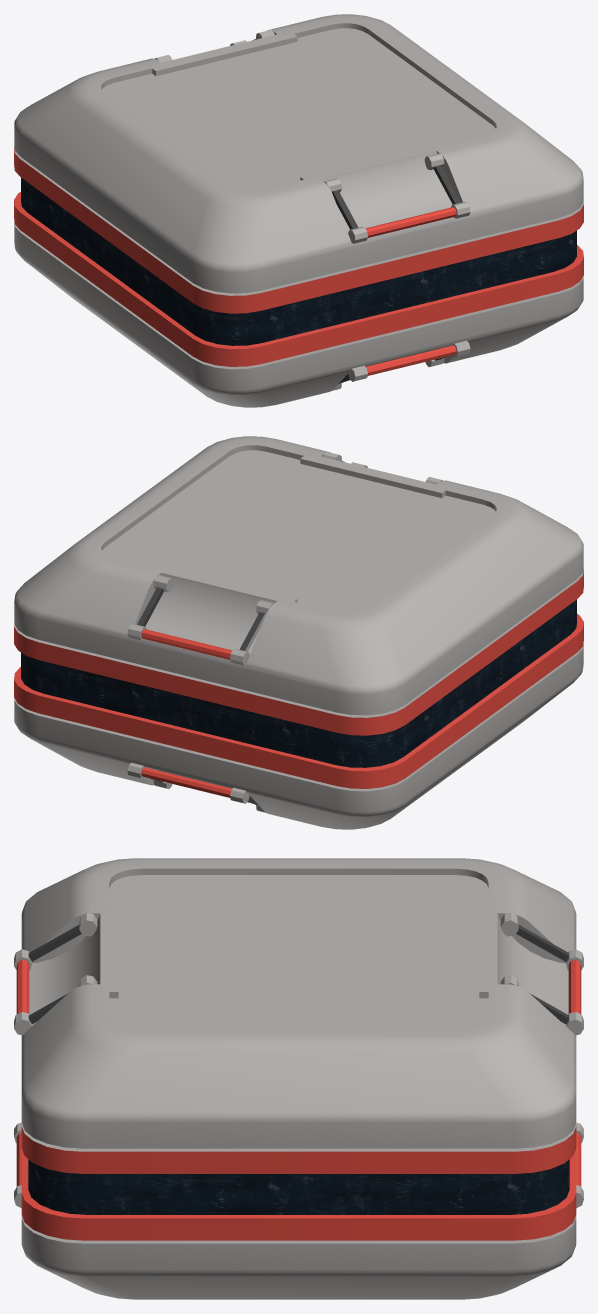
Rendered from ItemBox.fbx.
The picture shows the model from 3 angles, top to bottom: view 1: azimuth 30°, elevation 25°; view 2: azimuth 150°, elevation 25°; view 3: azimuth 270°, elevation 25°; orthographic projection. The views are drawn at different scales.
Visible parts, largest first — view 1: Cube; view 2: Cube; view 3: Cube.
Boxes of the visible parts, x1,y1,x2,y2 form: Cube: (14, 14, 583, 407); Cube: (14, 436, 583, 829); Cube: (14, 858, 583, 1299).
Bounding box in the file's own units: 40 × 20.87 × 41.1.
